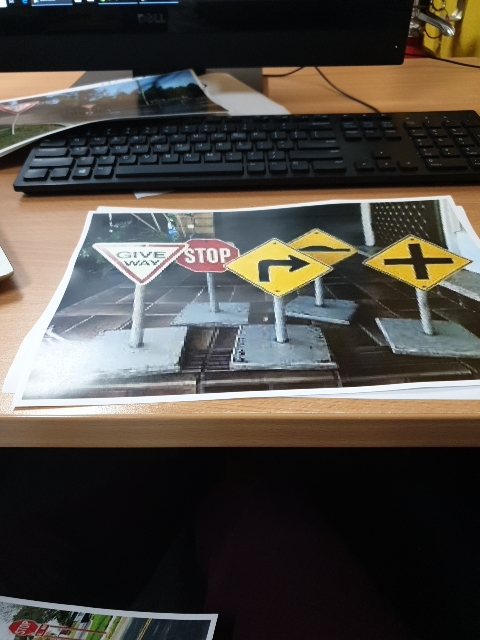giveway: (91, 234, 202, 294)
right: (223, 241, 338, 305)
stop: (169, 221, 249, 290)
